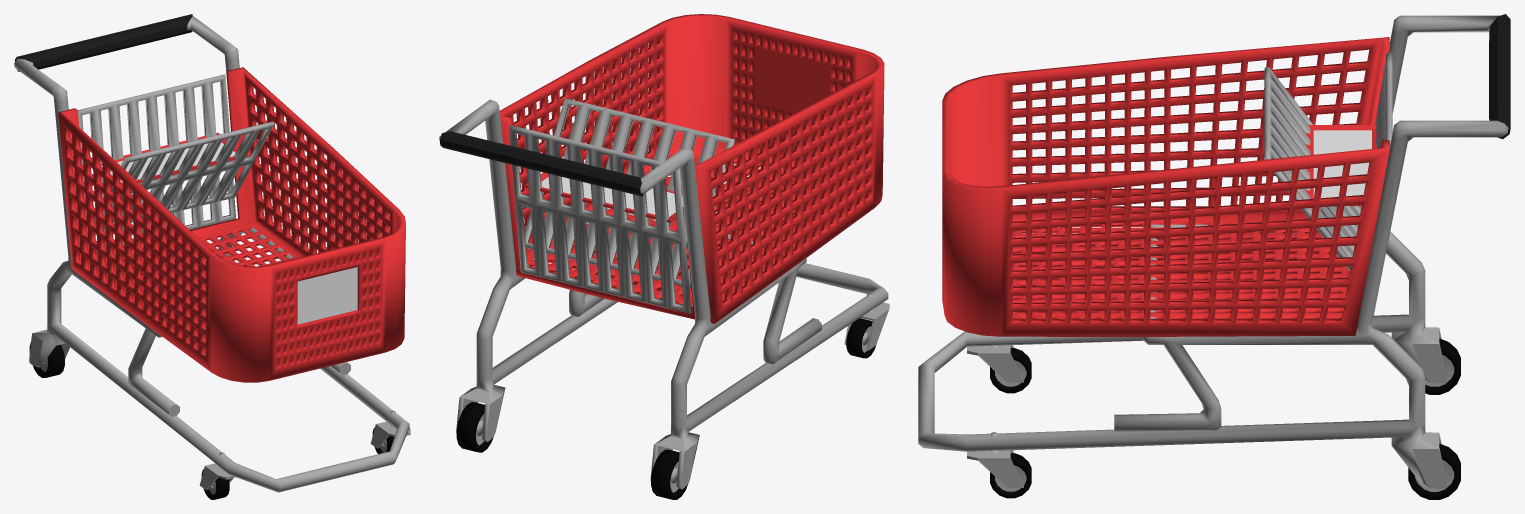
File: shoppingcart.fbx
3 renders of one model, left to right at view 1: azimuth 30°, elevation 25°; view 2: azimuth 150°, elevation 25°; view 3: azimuth 270°, elevation 25°, orthographic. The views are drawn at different scales.
Parts seen in each view (by area): view 1: Cart, Frame, Frame Back, Frame Part, Seat, Wheel BR, Wheel Bracket 2, Wheel Bracket; view 2: Cart, Frame, Frame Back, Frame Part, Seat, Wheel, Wheel BR, Wheel FR, Wheel Bracket 2; view 3: Cart, Frame, Frame Part, Seat, Wheel, Frame Back, Wheel Bracket, Wheel Bracket 2, Wheel BR, Wheel FR, Wheel FL.
Part boxes in pixels (box(x1,y1,x2,y2)): Cart: box(58, 67, 405, 382); Frame: box(14, 14, 409, 492); Frame Back: box(78, 74, 235, 252); Frame Part: box(87, 121, 274, 231); Seat: box(100, 132, 247, 185); Wheel BR: box(29, 341, 64, 377); Wheel Bracket 2: box(199, 452, 235, 490); Wheel Bracket: box(370, 411, 410, 448); Cart: box(499, 14, 884, 323); Frame: box(439, 99, 888, 489); Frame Back: box(509, 125, 691, 313); Frame Part: box(524, 98, 734, 287); Seat: box(525, 172, 684, 222); Wheel: box(456, 402, 493, 452); Wheel BR: box(651, 449, 688, 499); Wheel FR: box(846, 318, 875, 358); Wheel Bracket 2: box(844, 293, 889, 350); Cart: box(942, 37, 1389, 336); Frame: box(918, 14, 1510, 488); Frame Part: box(1264, 67, 1361, 271); Seat: box(1305, 125, 1376, 205); Wheel: box(1408, 443, 1460, 499); Frame Back: box(1375, 52, 1392, 148); Wheel Bracket: box(967, 432, 1023, 487); Wheel Bracket 2: box(967, 345, 1023, 382); Wheel BR: box(1425, 338, 1460, 394); Wheel FR: box(990, 348, 1031, 393); Wheel FL: box(990, 453, 1031, 498).
Bounding box in the file's own units: 87.86 × 127 × 181.
